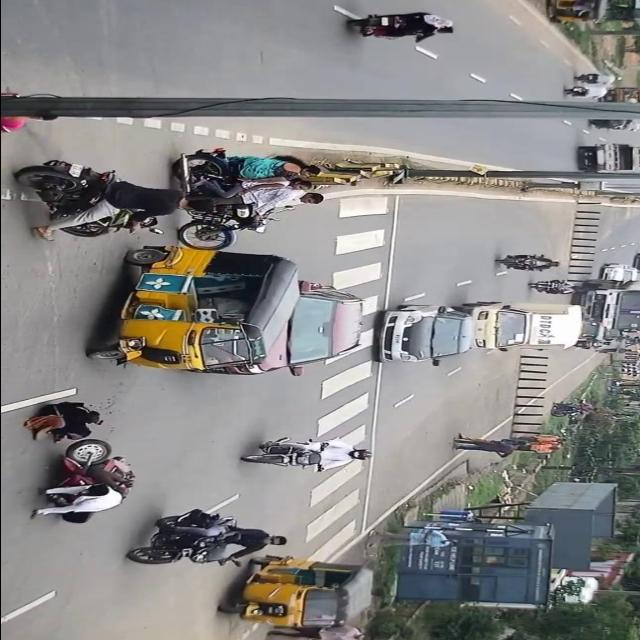accident: (7, 392, 143, 528)
non_accident: (362, 295, 590, 367), (574, 262, 640, 350), (626, 230, 640, 278)
